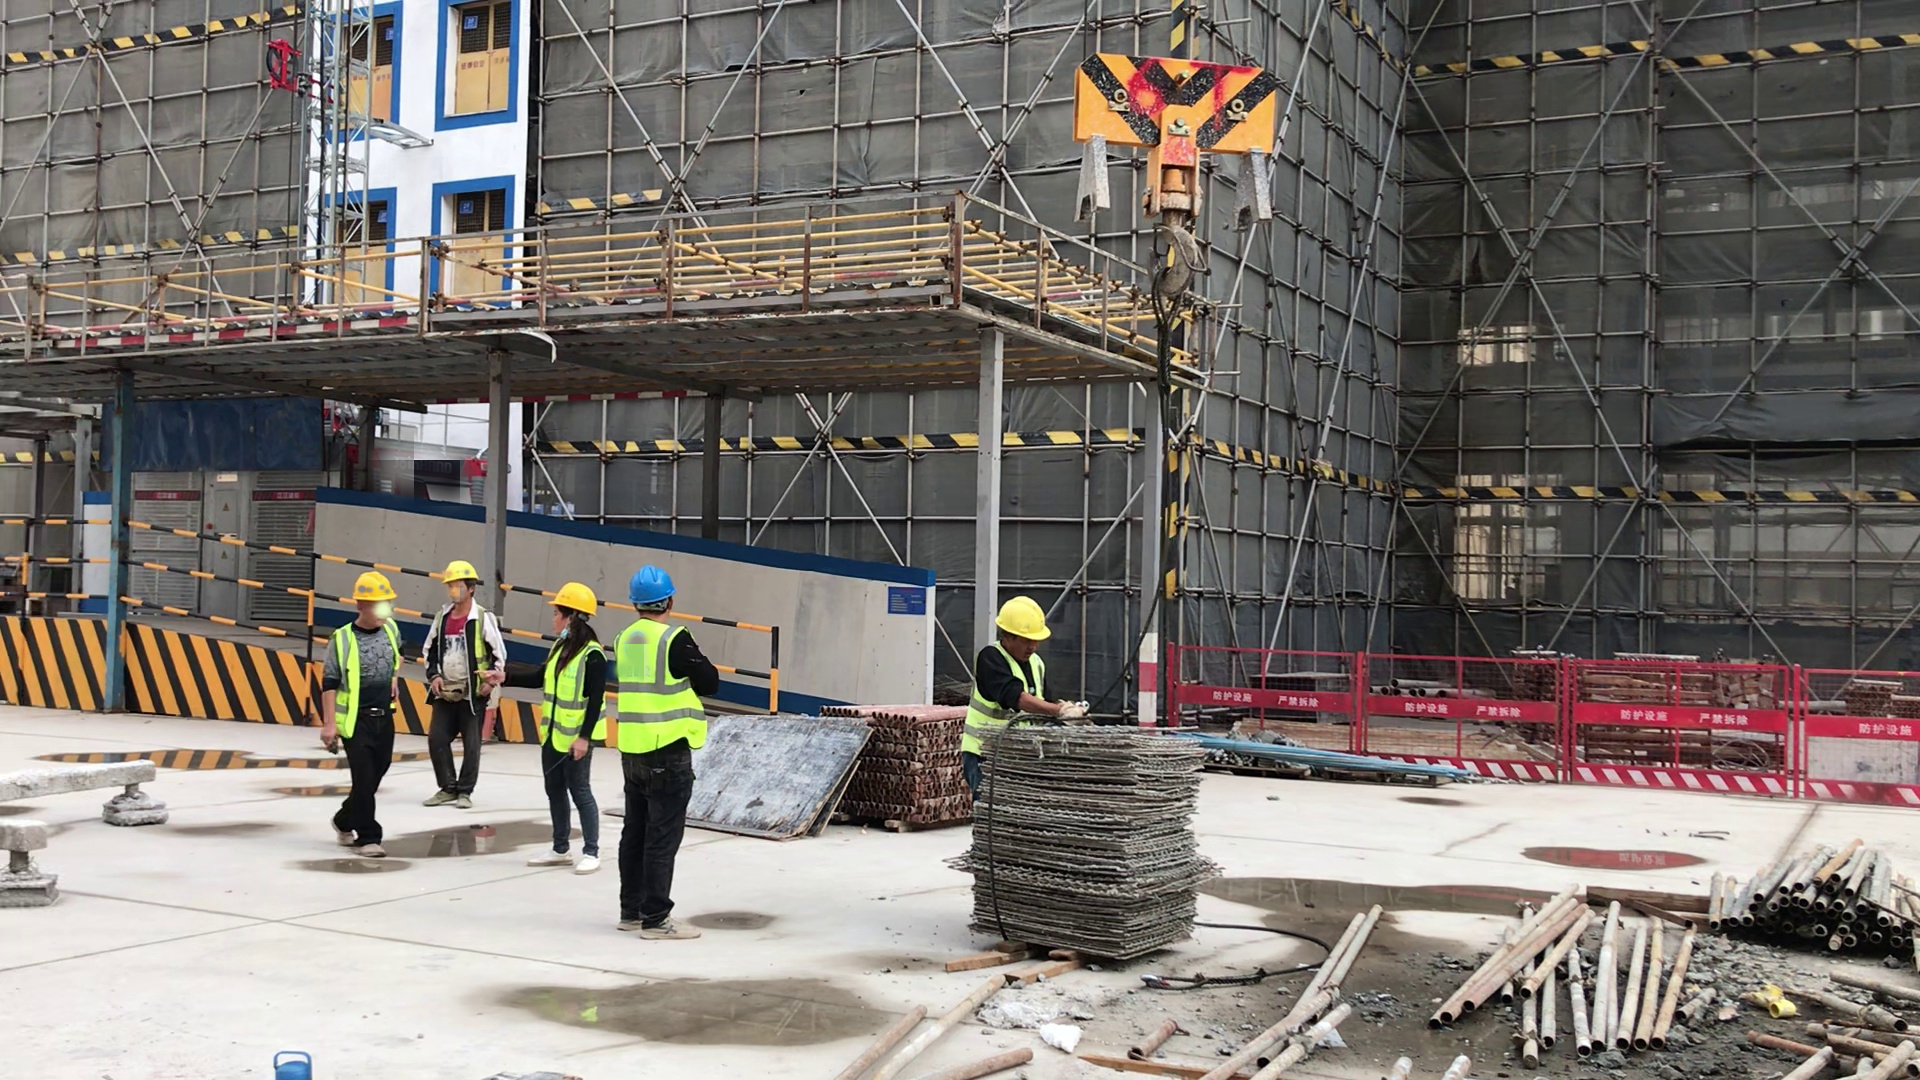helmet: (993, 589, 1057, 646), (345, 566, 403, 602), (550, 577, 597, 623), (629, 564, 677, 609), (443, 554, 482, 588)
person: (615, 565, 718, 949), (318, 564, 408, 873), (963, 588, 1085, 785), (424, 557, 508, 820), (531, 578, 604, 872)
vest: (618, 622, 710, 765), (973, 642, 1052, 766), (334, 614, 403, 728), (542, 634, 606, 757), (434, 602, 494, 708)
